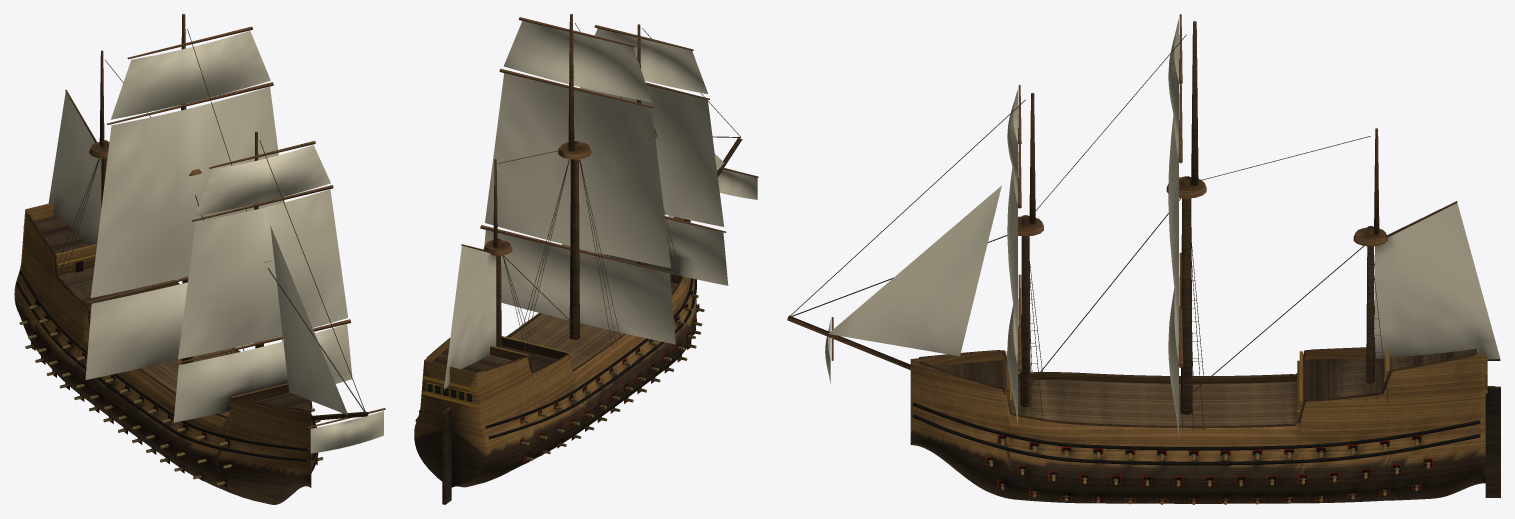
Rendered from model_built.glb.
3 views of the same model, side by side, from view 1: azimuth 30°, elevation 25°; view 2: azimuth 150°, elevation 25°; view 3: azimuth 270°, elevation 25° (orthographic). The views are drawn at different scales.
Visible parts, largest first — view 1: sails, hull, rig, guns, rigging; view 2: sails, hull, rig, rigging, guns; view 3: hull, sails, rig, rigging, guns.
Part boxes in pixels (bbox=[...]): sails: bbox=[48, 31, 383, 453]; hull: bbox=[14, 202, 318, 504]; rig: bbox=[65, 14, 385, 428]; guns: bbox=[19, 304, 323, 485]; rigging: bbox=[51, 29, 366, 420]; sails: bbox=[444, 21, 757, 388]; hull: bbox=[414, 216, 699, 504]; rig: bbox=[443, 14, 758, 390]; rigging: bbox=[498, 23, 740, 380]; guns: bbox=[520, 293, 704, 460]; hull: bbox=[910, 347, 1500, 503]; sails: bbox=[825, 19, 1500, 438]; rig: bbox=[787, 14, 1500, 414]; rigging: bbox=[788, 34, 1388, 430]; guns: bbox=[988, 438, 1430, 504].
Bounding box in the file's own units: 24.97 × 48.5 × 65.79.
Materials: 5 (2 with a texture image).
